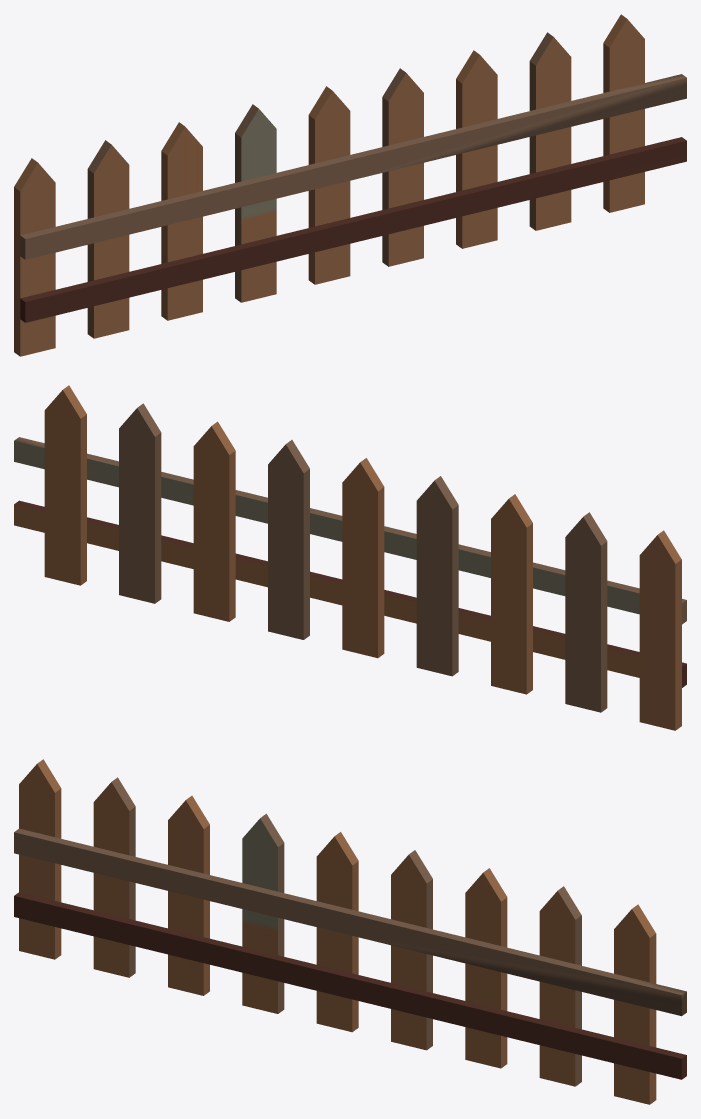
File: SM_Fence.fbx
3 renders of one model, top to bottom at view 1: azimuth 30°, elevation 25°; view 2: azimuth 150°, elevation 25°; view 3: azimuth 330°, elevation 25°, orthographic.
Visible parts, largest first — view 1: SM_fence1; view 2: SM_fence1; view 3: SM_fence1.
Boxes of the visible parts, x1,y1,x2,y2 form: SM_fence1: (14,14,686,356); SM_fence1: (14,385,686,730); SM_fence1: (14,759,686,1104).
Bounding box in the file's own units: 1.64 × 0.4509 × 0.0491.
1 material, 1 textured.
